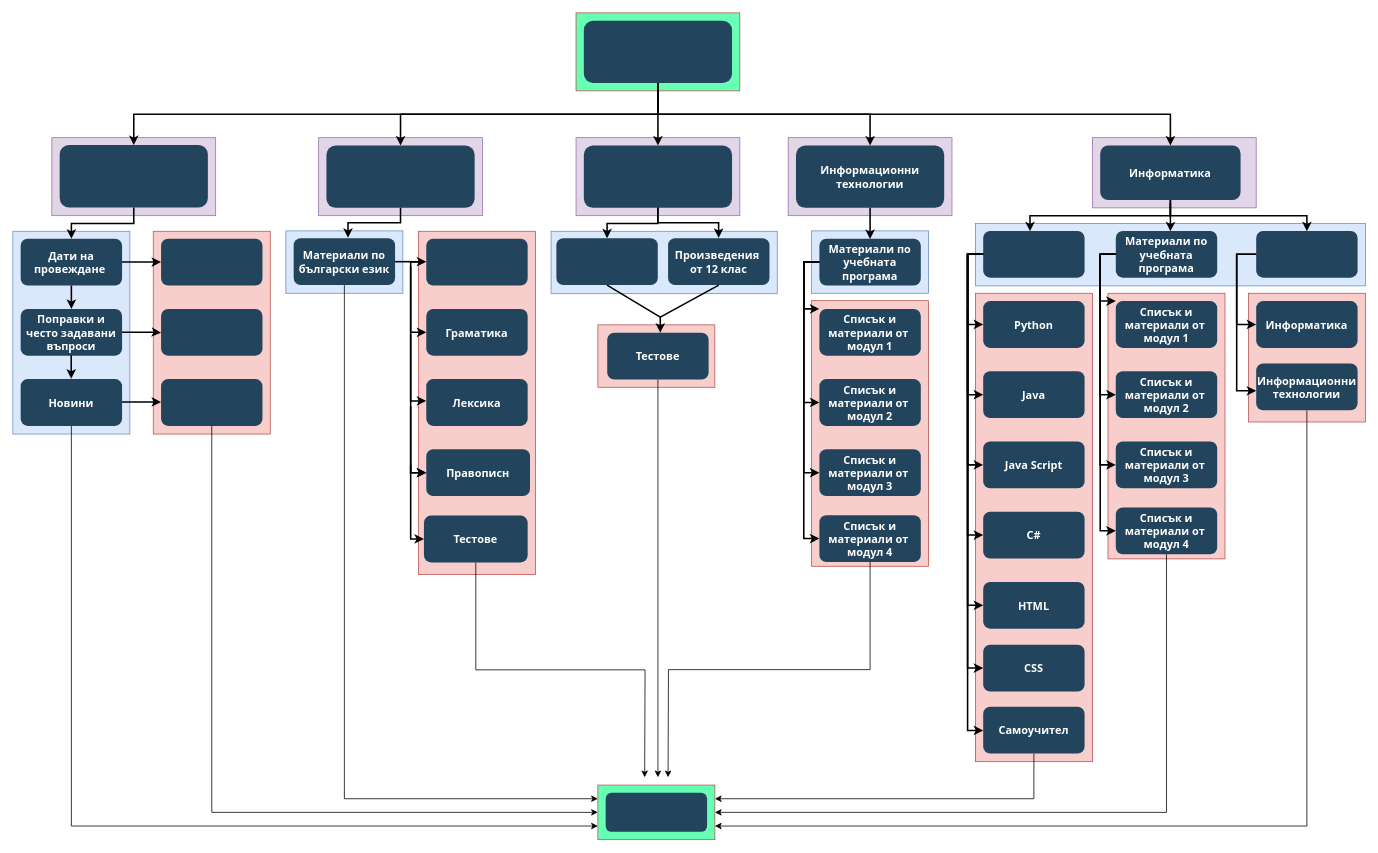
Image size: 1378x853. Some labels were removed from this diagram. Here are the shapes that lost their labels. From the top down, the centre of each, then its label:
At [657,51]: "Начална страница".
At [133,176]: "Информация".
At [400,176]: "Български език".
At [657,176]: "Лителатура".
At [211,261]: "Редовен изпит".
At [476,261]: "Пунктуация".
At [606,261]: "Произведения от 11 клас".
At [1033,253]: "Учебници".
At [1306,253]: "Изпити от предходни години".
At [211,331]: "Поправителен".
At [211,402]: "МОН".
At [656,811]: "Източници".
